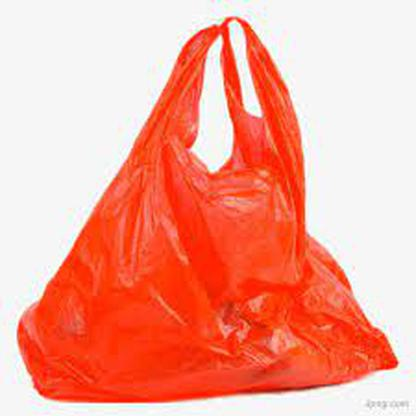plastic bag: (12, 15, 398, 402)
